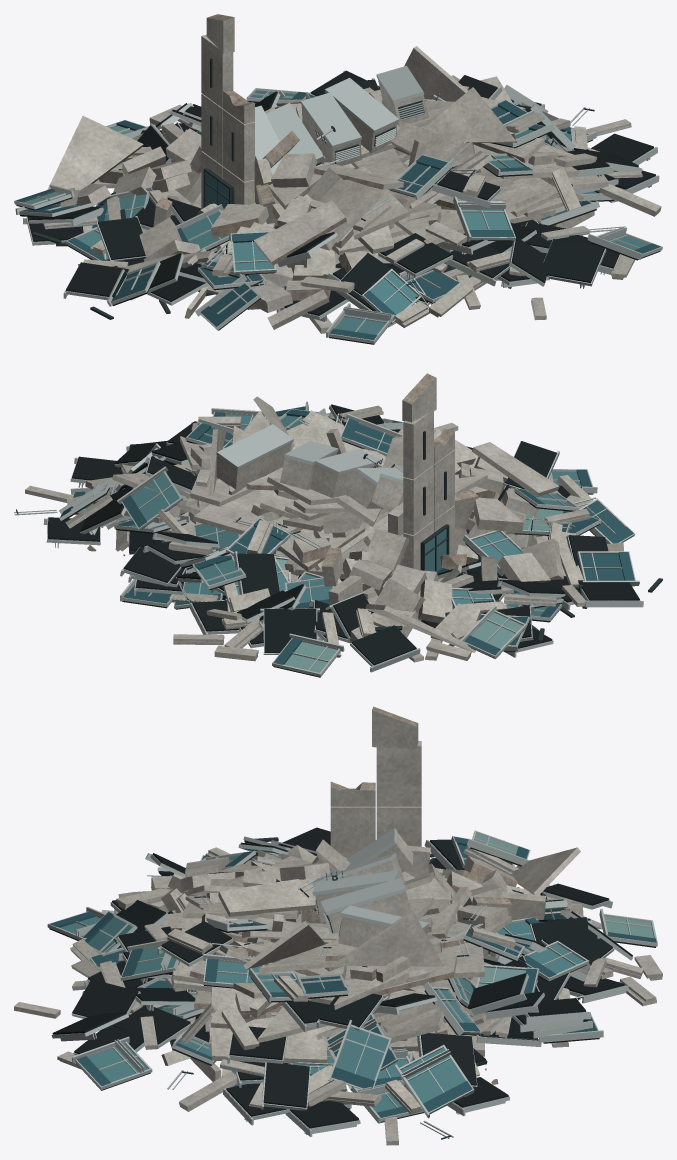
The model's file is Tidewater_Ruins.glb.
3 renders of one model, top to bottom at view 1: azimuth 30°, elevation 25°; view 2: azimuth 150°, elevation 25°; view 3: azimuth 270°, elevation 25°, orthographic. The views are drawn at different scales.
Parts seen in each view (by area): view 1: Tidewater_Geometry; view 2: Tidewater_Geometry; view 3: Tidewater_Geometry.
Part boxes in pixels (x1=…): Tidewater_Geometry: x1=14, y1=14, x2=662, y2=344; Tidewater_Geometry: x1=14, y1=373, x2=662, y2=677; Tidewater_Geometry: x1=14, y1=706, x2=662, y2=1145.
Bounding box in the file's own units: 34.07 × 11.58 × 30.04.
11 materials, 4 textured.
